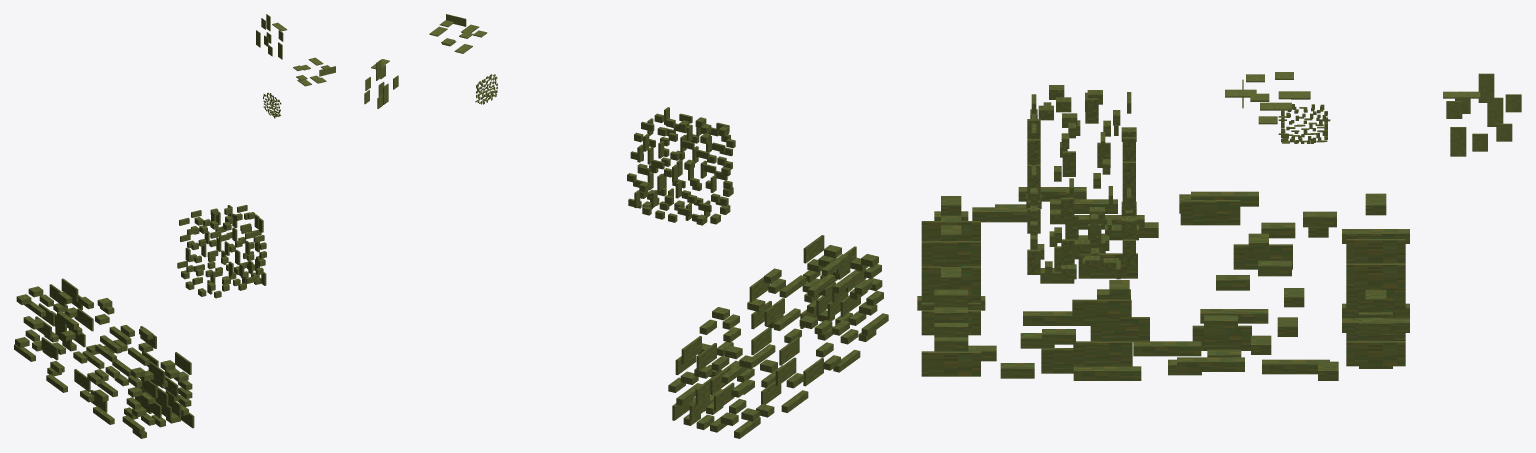
The model's file is CH01_S08_CrossingTheBridge.glb.
3 views of the same model, side by side, from view 1: azimuth 30°, elevation 25°; view 2: azimuth 150°, elevation 25°; view 3: azimuth 270°, elevation 25° (orthographic). The views are drawn at different scales.
Visible parts, largest first — view 1: GrassGlitchCube (4), GrassGlitchCube (3), GrassGlitchCube (2), GrassGlitchCube (1); view 2: GrassGlitchCube (4), GrassGlitchCube (3), GrassGlitchCube (1), GrassGlitchCube (2); view 3: GrassGlitchCube (4), GrassGlitchCube (3), GrassGlitchCube (2), GrassGlitchCube (1), GrassGlitchCube.
Boxes of the visible parts, x1,y1,x2,y2 form: GrassGlitchCube (4): (14, 278, 194, 438); GrassGlitchCube (3): (177, 205, 266, 298); GrassGlitchCube (2): (256, 14, 287, 59); GrassGlitchCube (1): (293, 57, 335, 86); GrassGlitchCube (4): (668, 235, 888, 438); GrassGlitchCube (3): (627, 107, 735, 225); GrassGlitchCube (1): (429, 14, 487, 53); GrassGlitchCube (2): (364, 59, 398, 108); GrassGlitchCube (4): (917, 187, 1409, 380); GrassGlitchCube (3): (1026, 85, 1136, 279); GrassGlitchCube (2): (1443, 73, 1521, 156); GrassGlitchCube (1): (1225, 72, 1310, 124); GrassGlitchCube: (1278, 104, 1330, 143).
Size of the model in its own units: 335 by 291 by 305.
Materials: 2 (2 with a texture image).
